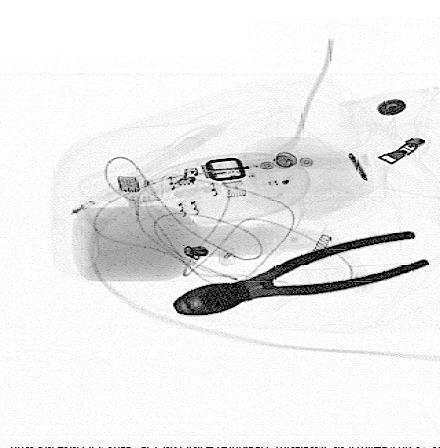Pliers: (168, 228, 434, 317)
